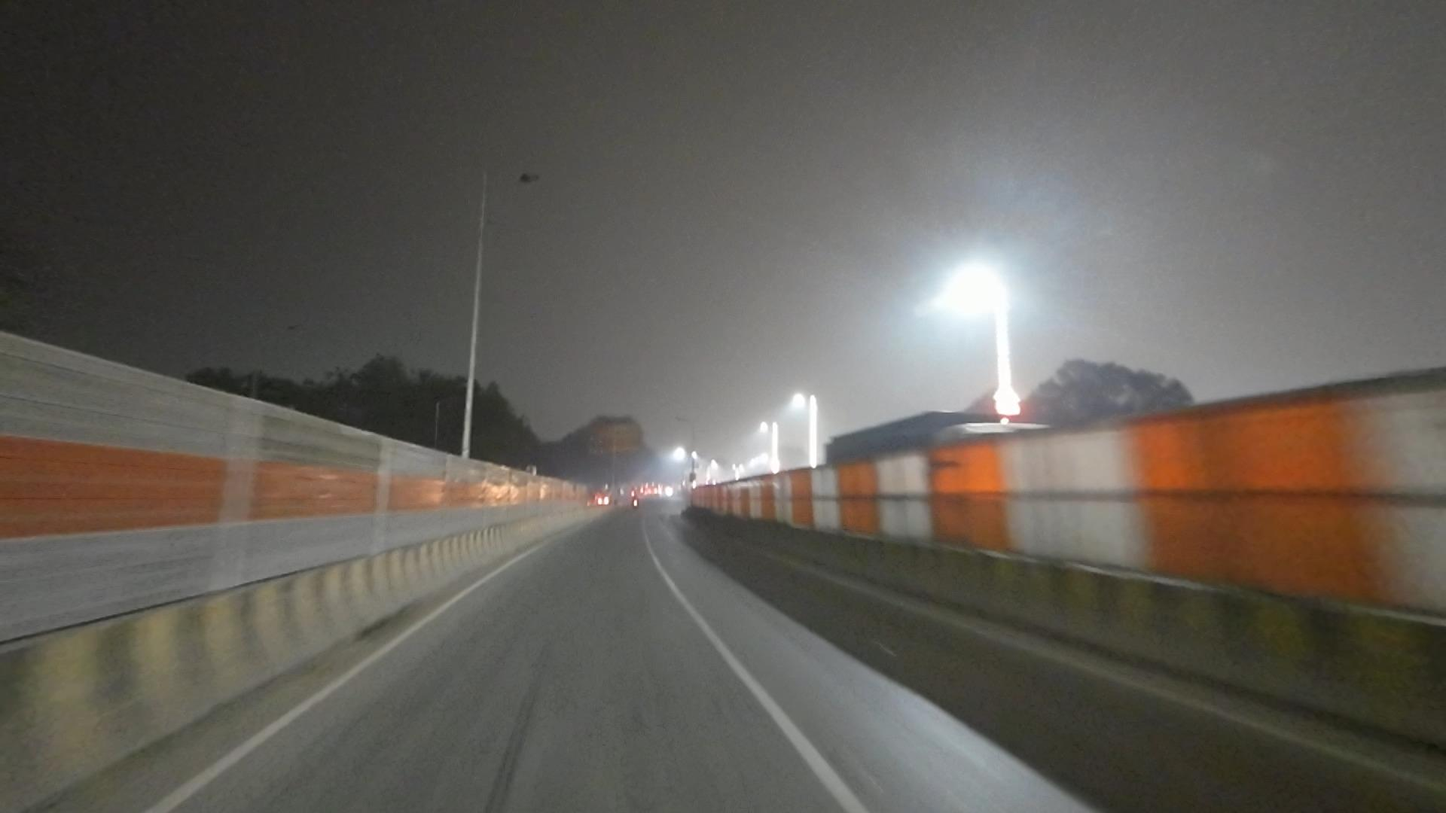streetlight: (498, 168, 549, 191)
